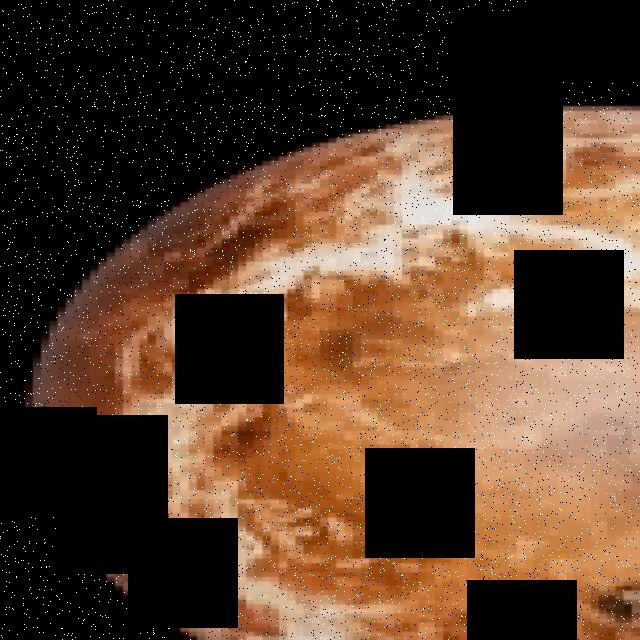Venus: (33, 105, 640, 640)
